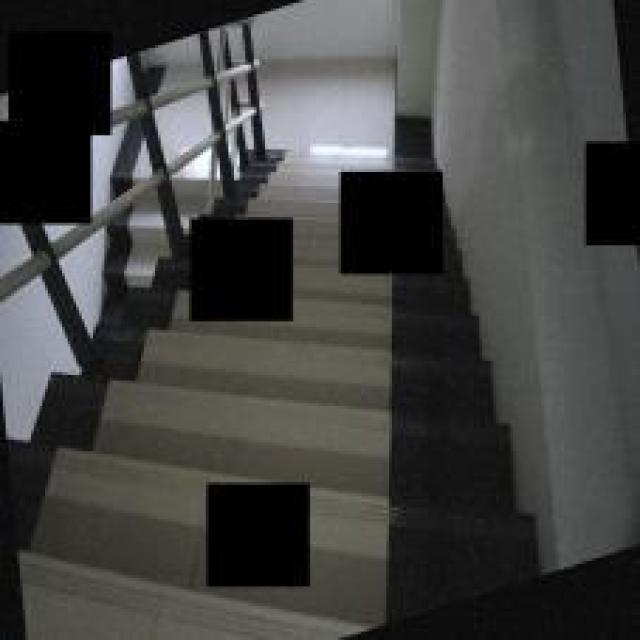downstair: (153, 331, 475, 477)
